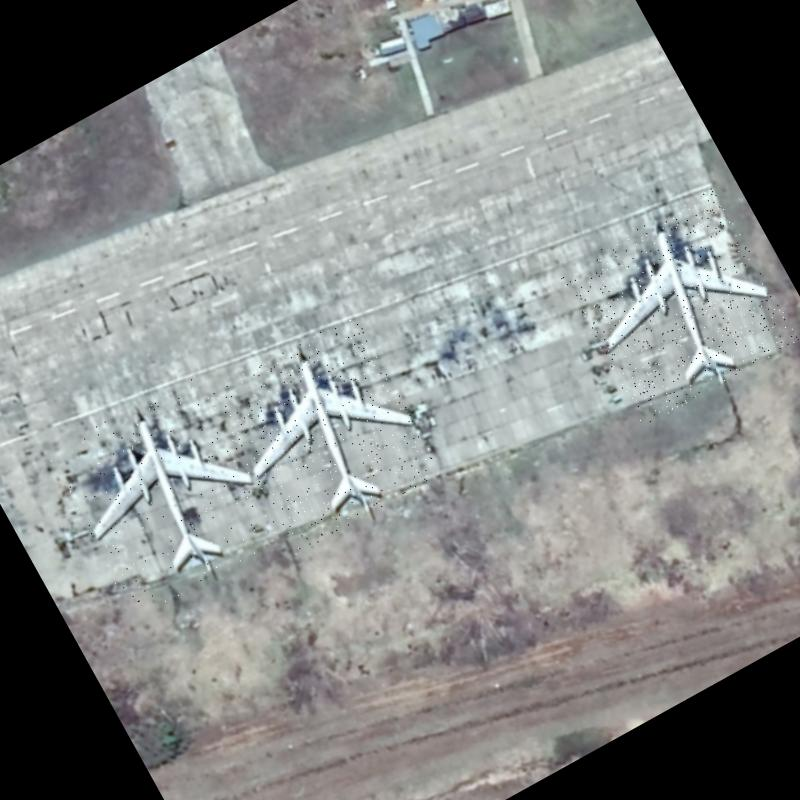A17: (43, 372, 284, 619), (205, 312, 443, 556), (558, 186, 799, 426)
